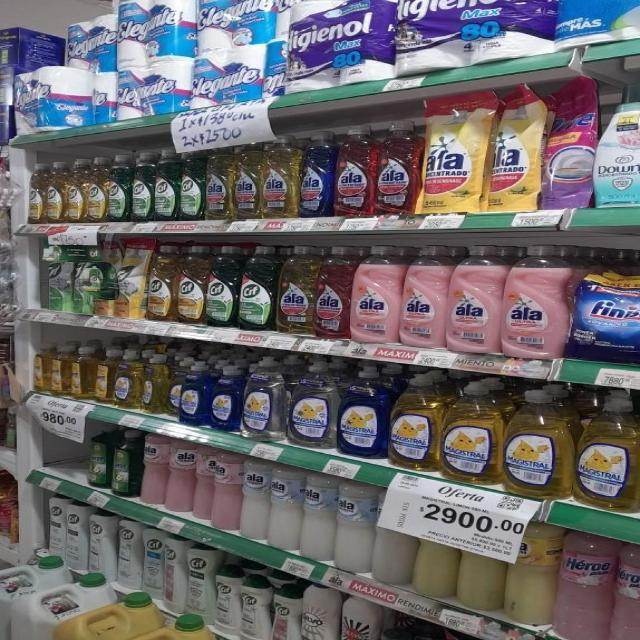ala_conc_amarillo: (276, 244, 314, 336), (263, 134, 298, 218), (234, 143, 261, 220), (205, 146, 233, 220)
ala_conc_azul: (299, 132, 334, 218)
ala_conc_rojo: (375, 119, 419, 215), (335, 124, 374, 217), (314, 245, 349, 340)
ala_crem_blanco: (336, 479, 372, 573), (301, 473, 335, 561), (269, 465, 300, 551), (241, 457, 269, 541)
ala_crem_rosado: (213, 448, 240, 532), (167, 438, 195, 515), (142, 433, 167, 508), (194, 444, 213, 522)
ala_sachet_amarillo: (420, 91, 484, 213), (486, 86, 541, 211)
ala_ultra_rosa: (502, 243, 570, 359), (448, 243, 501, 355), (350, 244, 400, 345), (400, 244, 447, 350)
cif_conc_bot_amarilla: (176, 245, 205, 324), (147, 243, 176, 322), (86, 155, 106, 223), (44, 160, 65, 224), (66, 158, 85, 223)
cif_conc_botella_verde: (238, 244, 275, 330), (206, 244, 237, 328), (154, 148, 178, 222), (180, 147, 204, 221), (131, 150, 153, 222), (108, 153, 129, 222)
cif_conc_sachet_amarillo: (114, 237, 145, 320)
heroe: (556, 531, 611, 640), (612, 541, 640, 640), (112, 428, 136, 497), (89, 422, 111, 490)
magistral_con_amarillo: (575, 390, 639, 511), (504, 387, 571, 498), (441, 379, 501, 484), (388, 372, 440, 472), (242, 359, 284, 440), (112, 348, 141, 409)
magistral_con_azul: (338, 364, 386, 459), (288, 360, 336, 450), (210, 363, 240, 432), (180, 360, 208, 426)
